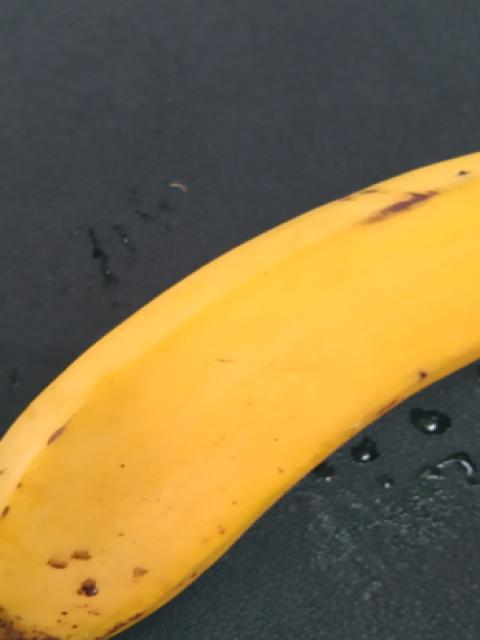freshripe: (0, 151, 474, 639)
